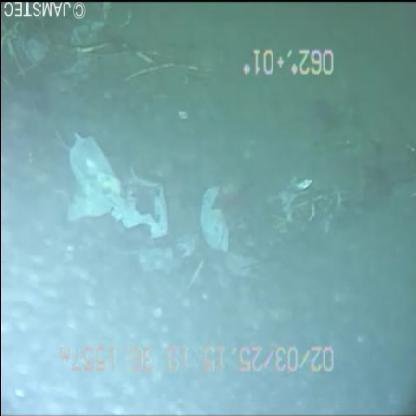Rác: (56, 120, 177, 245), (176, 152, 242, 262)
